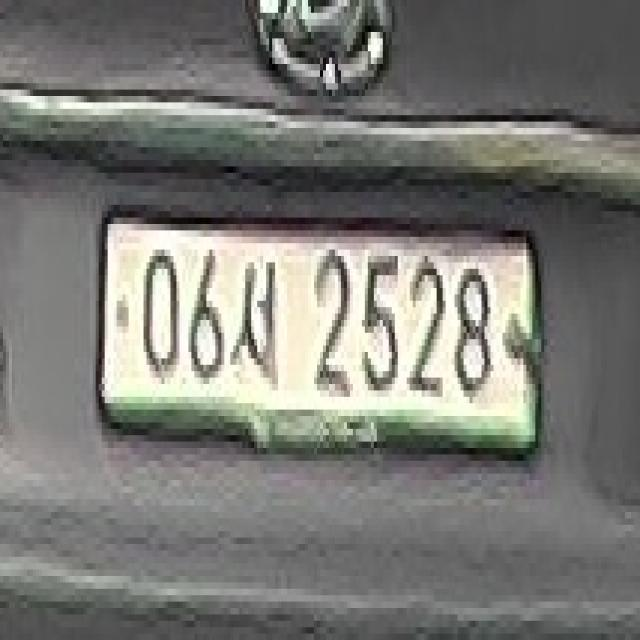plat: (98, 205, 544, 464)
